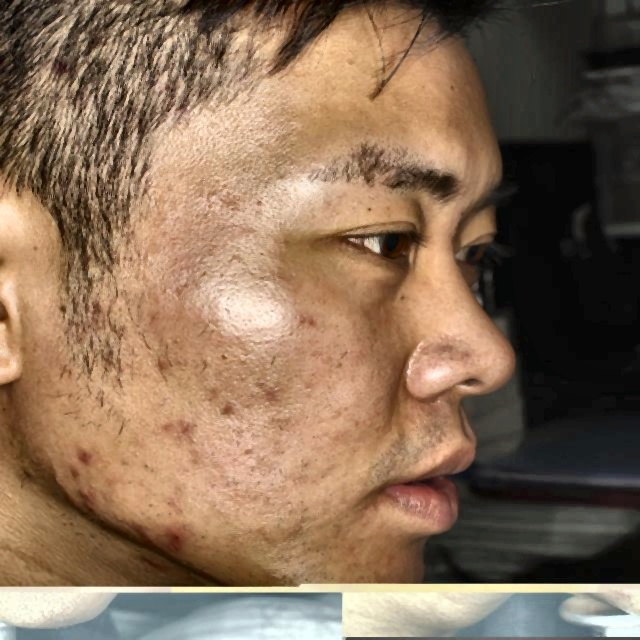pustule: (160, 408, 198, 455), (155, 518, 194, 562), (71, 430, 98, 470), (213, 395, 245, 424), (49, 461, 81, 482), (126, 518, 148, 548), (78, 484, 95, 509)
